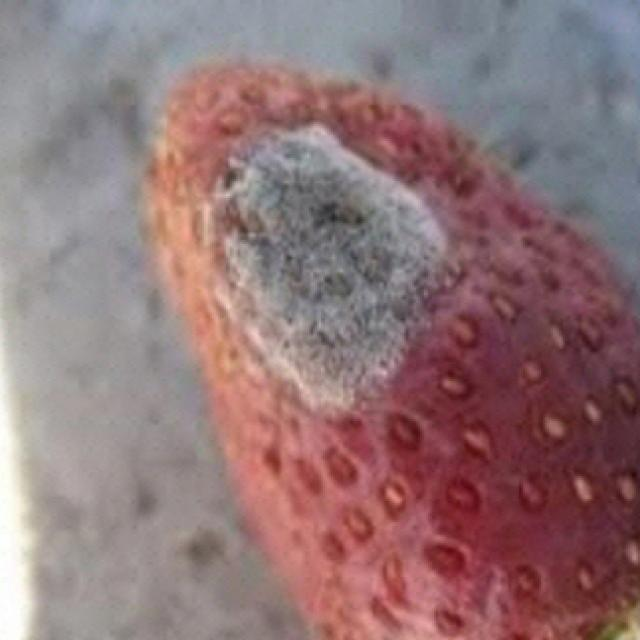Gray Mold: (199, 104, 469, 424)
